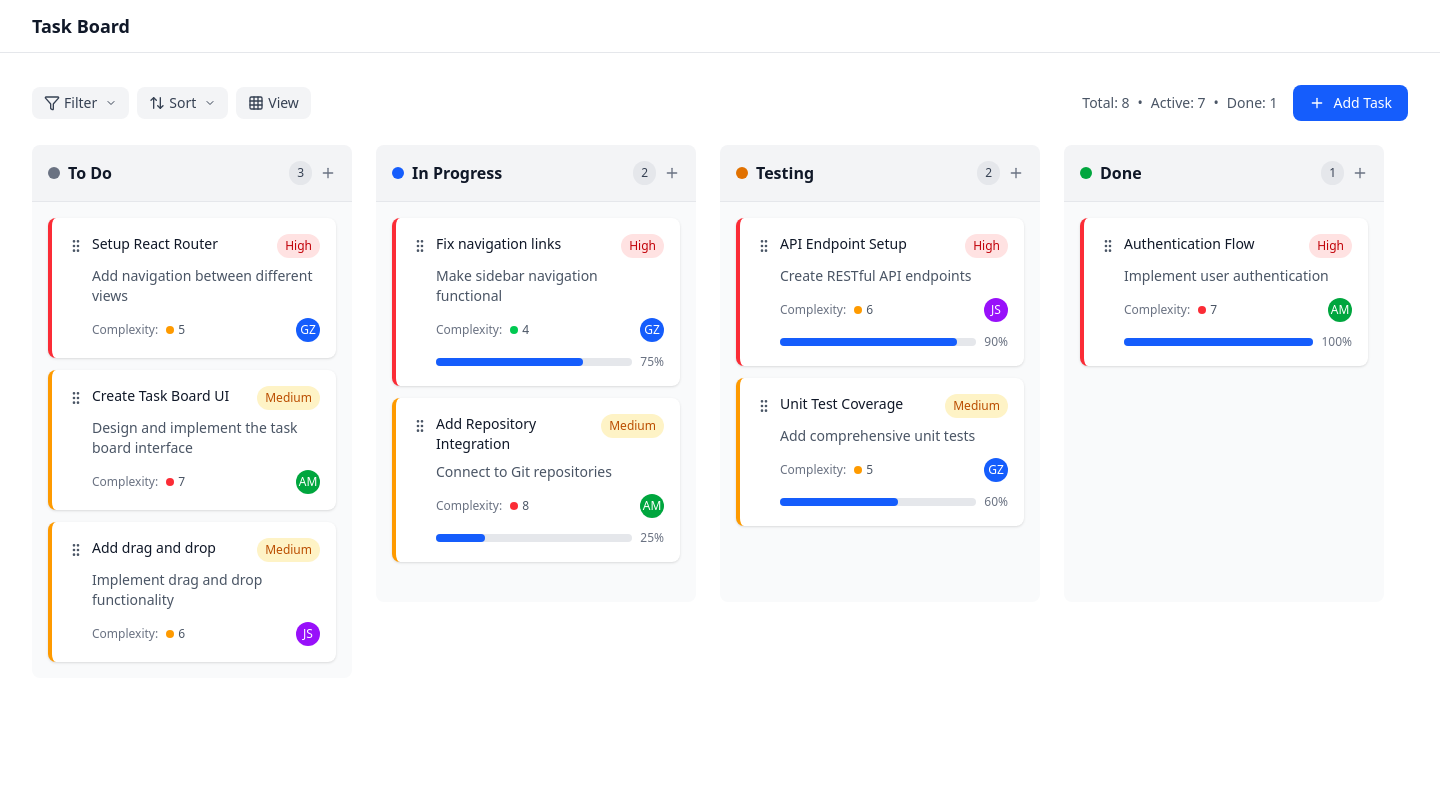
Test: TaskBoard › shows sort dropdown and allows sorting
Note: Click sort button
What coordinates should you click on to do the following:
click the button "Sort"
I would click on:
 (183, 103)
Its box is 137,87 -> 228,119.
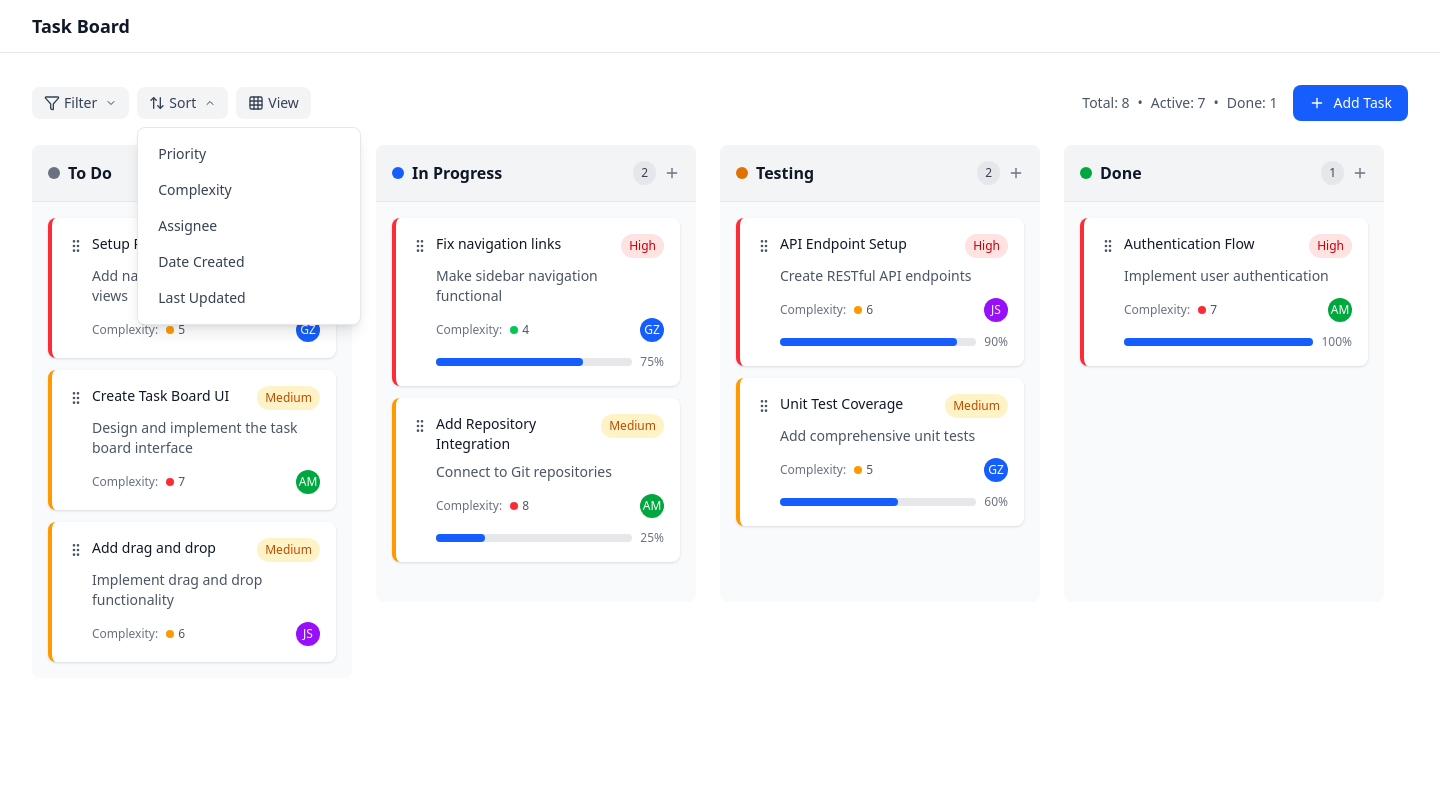
Result: the text "Priority" is shown at 158,144 -> 206,164
Result: the text "Complexity" is shown at 158,180 -> 232,200
Result: the text "Date Created" is shown at 158,252 -> 244,272
